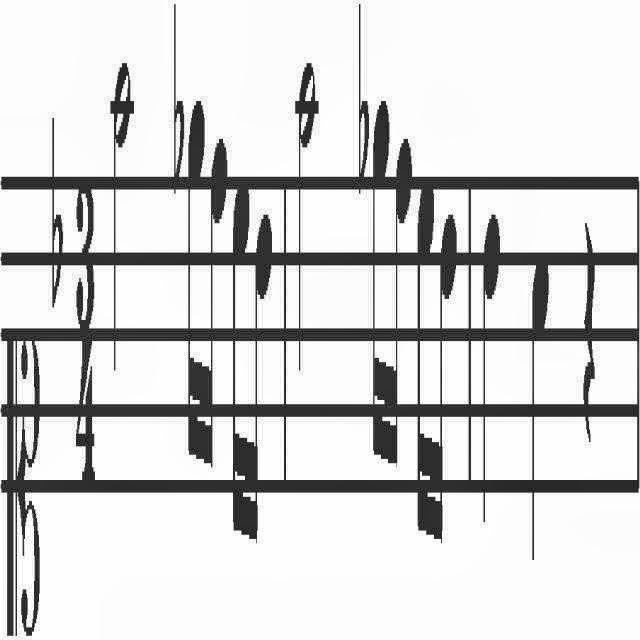Bemol: (48, 98, 64, 318), (356, 0, 370, 204), (172, 0, 184, 204)
Half-note: (111, 57, 132, 381), (296, 51, 316, 382)
Quarter-note: (480, 203, 500, 529), (530, 253, 550, 567)
Quarter-rest: (583, 221, 597, 454)
Sixteenth-note: (205, 126, 228, 496), (250, 211, 274, 561), (230, 172, 250, 556), (435, 206, 457, 552), (370, 94, 390, 470), (391, 130, 413, 470), (414, 174, 434, 544), (188, 90, 204, 482)
